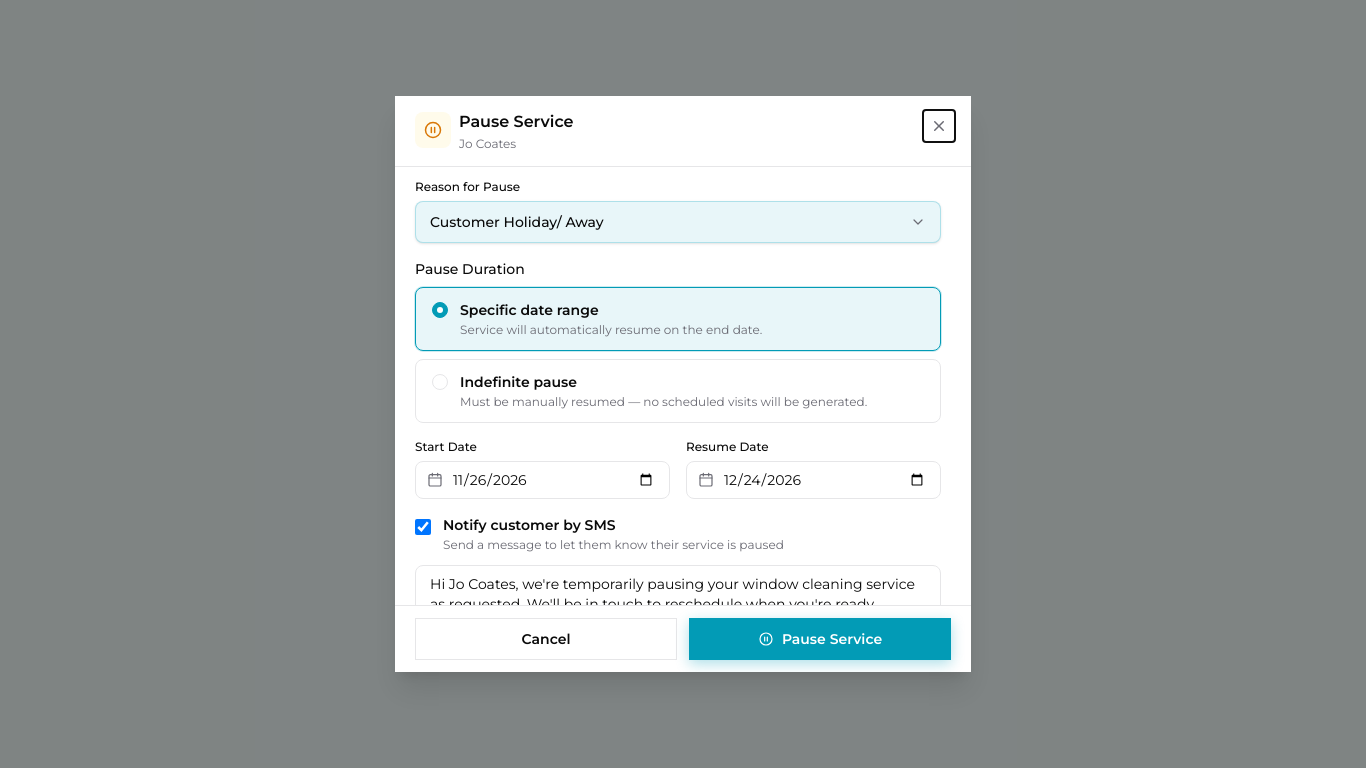
Test case: PauseServiceModal errors › shows the backend 400 inline instead of failing silently
Click the checkbox. click: (423, 527)
box: [415, 519, 431, 535]
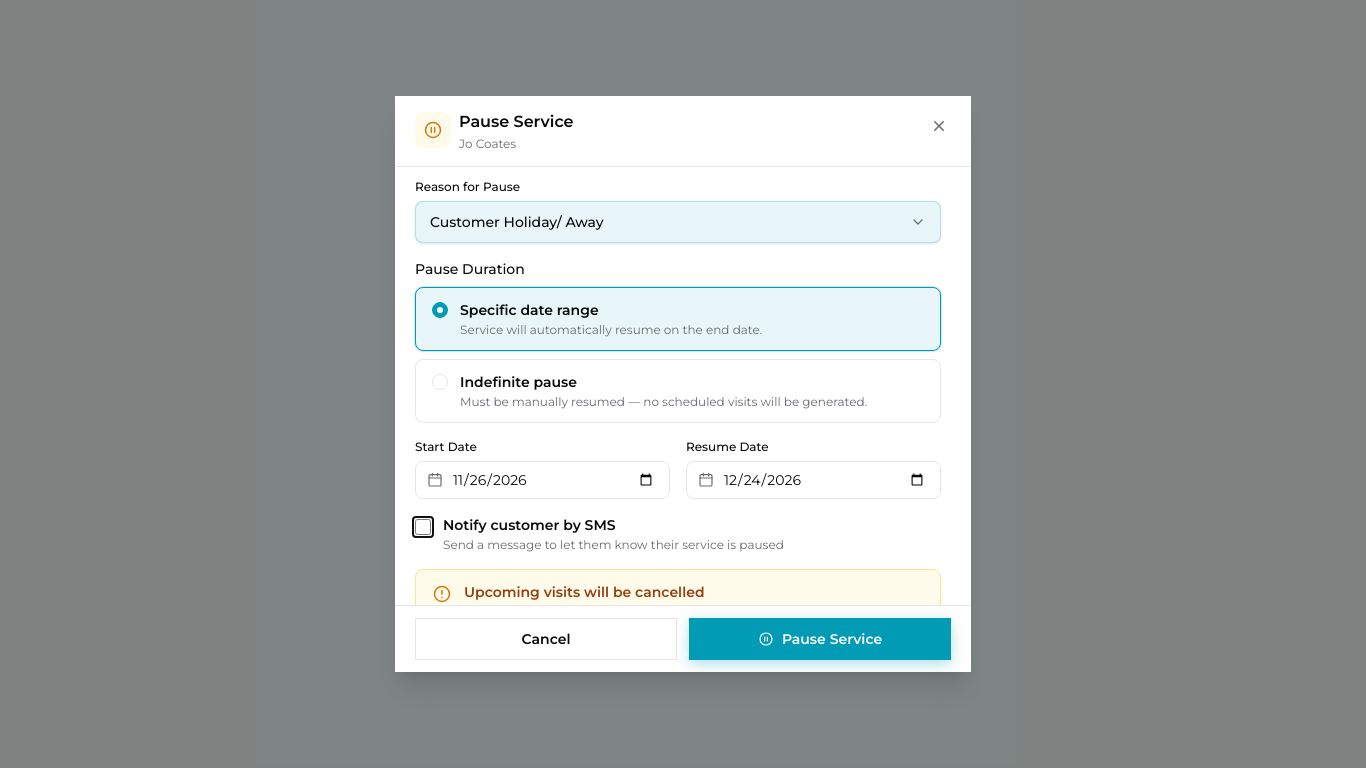
Click the button "Pause Service". click: (820, 639)
box: [689, 618, 951, 660]
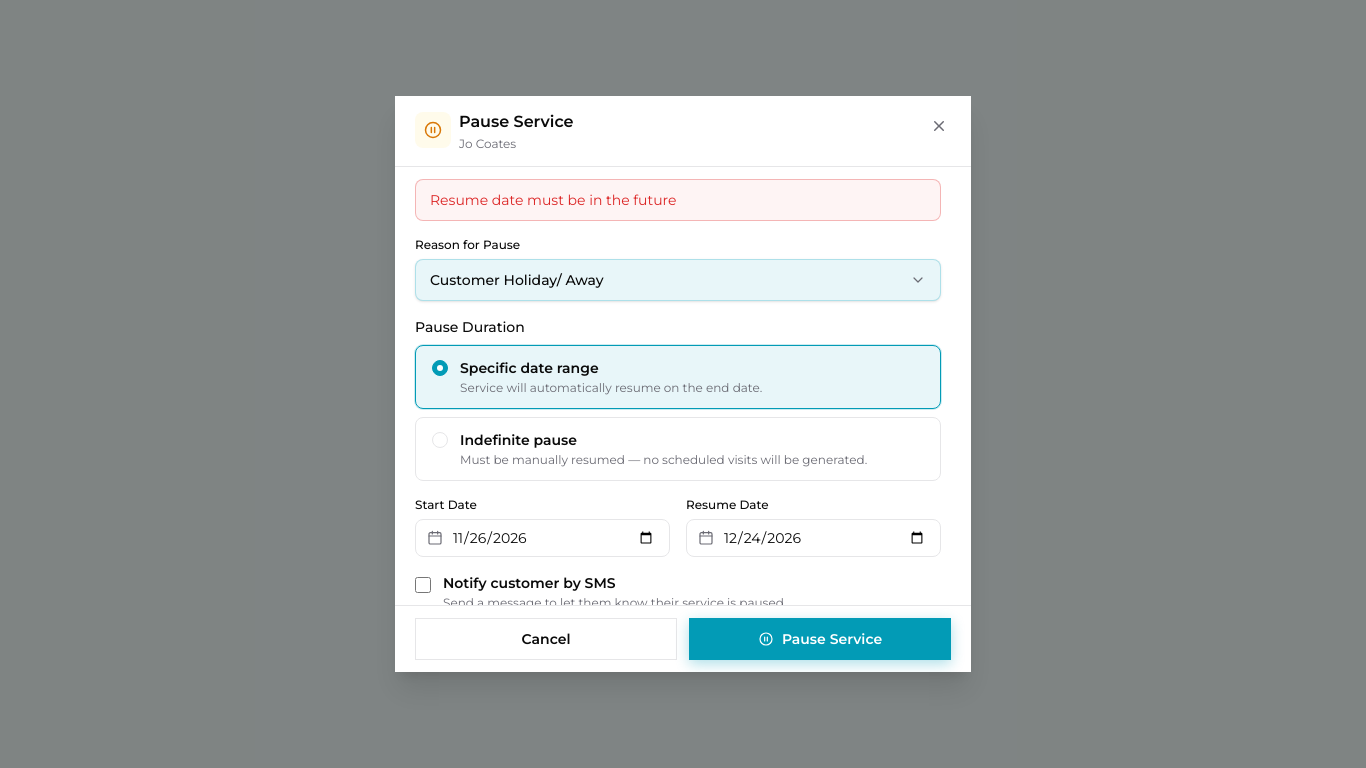
Check: the message reads "Resume date must be in the future", box [430, 191, 676, 209]
